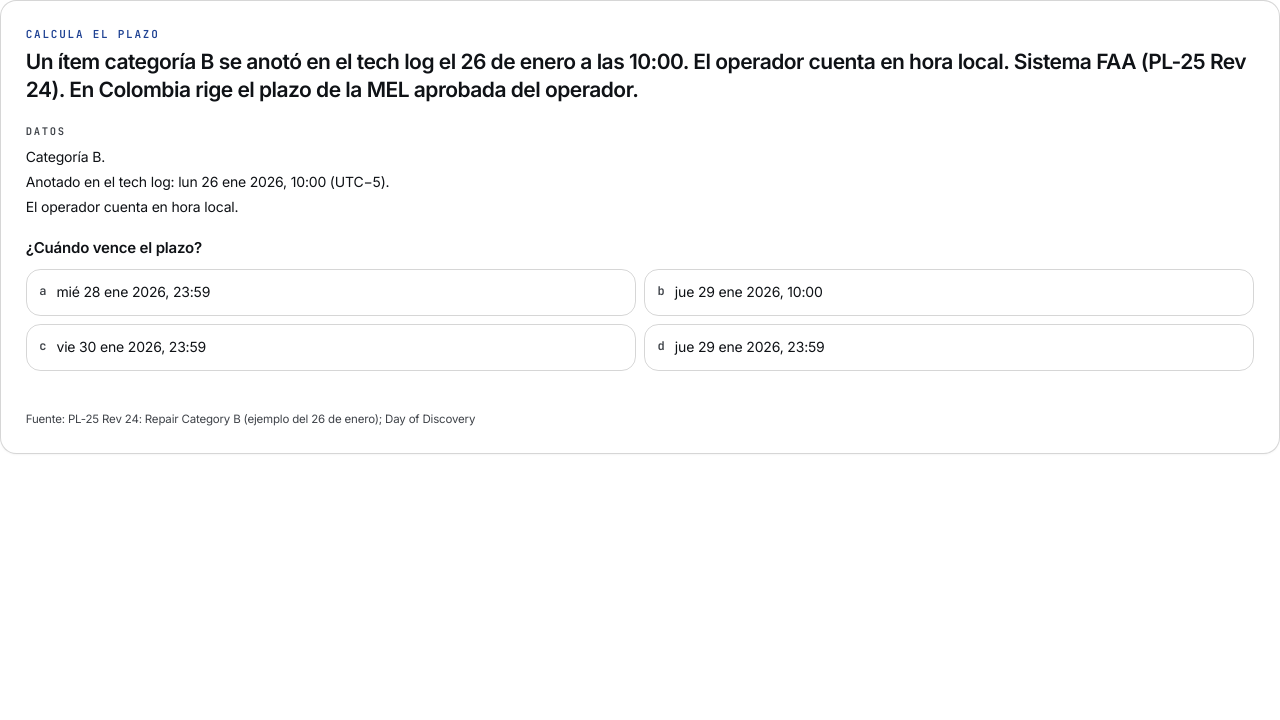
Scenario: CalculaElPlazo › en días: elegir la fecha buena y ver la cuenta sin el day of discovery
Click the button "d jue 29 ene 2026, 23:59".
click(750, 347)  # box [644,324,1254,371]
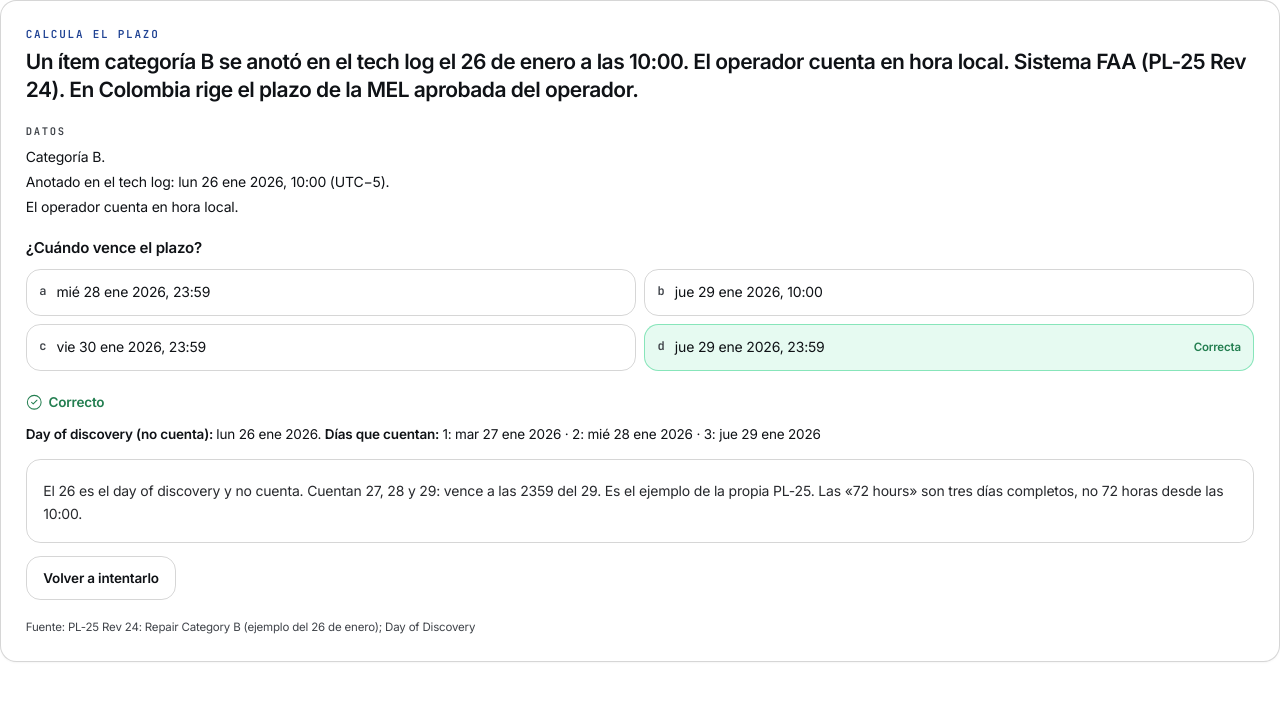
Now the text "3: jue 29 ene 2026" is shown, box [442,426,821,442]
